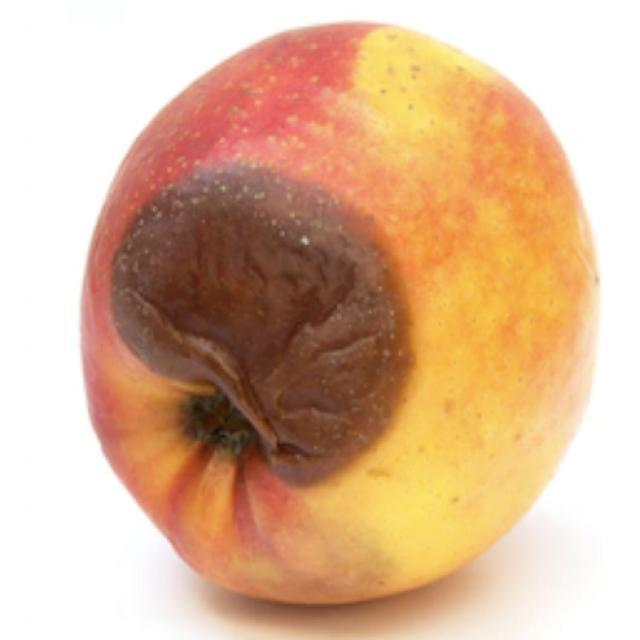Rotten: (88, 25, 595, 590)
